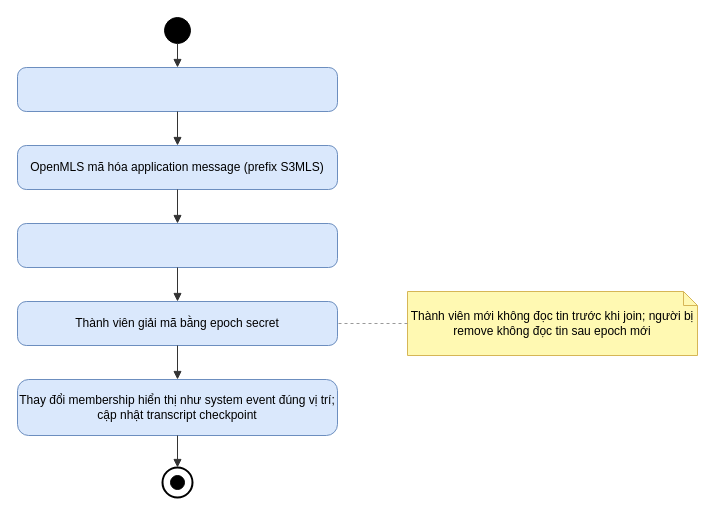
Some shapes in this 715 by 516 pixel diagram are drawn without their labels. Here are the shapes that lost their labels. From the top down, the centre of each, then its label:
At point 177,89: "Soạn tin trong group".
At point 177,245: "Server lưu ciphertext và broadcast cho thành viên online".
